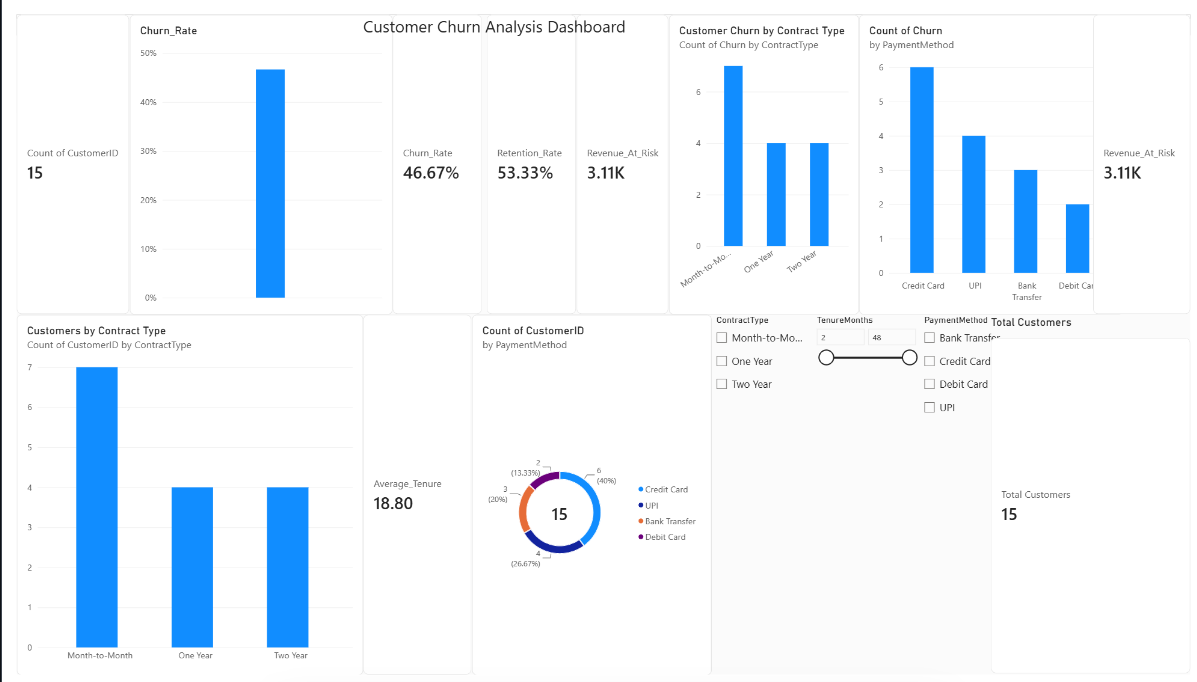

The dashboard page shown, as its layout file describes it:
{"tool":"powerbi","page":{"name":"Page 1","canvas":[1920,1080],"ordinal":0},"visuals":[{"type":"cardVisual","fields":{"Data":["customer_churn_sample (1).Churn_Rate","customer_churn_sample (1).Retention_Rate"]},"box":[362.5,62.5,572.5,317.5],"z":0},{"type":"clusteredColumnChart","fields":{"Y":["customer_churn_sample (1).Churn_Rate"]},"box":[0,380,437.5,397.5],"z":1000},{"type":"cardVisual","fields":{"Data":["customer_churn_sample (1).Revenue_At_Risk"]},"box":[940,65,345,315],"z":2000},{"type":"clusteredColumnChart","title":"Customer Churn by Contract Type","fields":{"Category":["customer_churn_sample (1).ContractType"],"Y":["CountNonNull(customer_churn_sample (1).Churn)"]},"box":[1448.4,379.2,472.5,397.5],"z":3000},{"type":"clusteredColumnChart","fields":{"Category":["customer_churn_sample (1).PaymentMethod"],"Y":["CountNonNull(customer_churn_sample (1).Churn)"]},"box":[990,380,457.5,397.5],"z":4000},{"type":"cardVisual","fields":{"Data":["customer_churn_sample (1).Revenue_At_Risk"]},"box":[1285,62.5,365,317.5],"z":5000},{"type":"clusteredColumnChart","title":" Customers by Contract Type","fields":{"Category":["customer_churn_sample (1).ContractType"],"Y":["CountNonNull(customer_churn_sample (1).CustomerID)"]},"box":[437.5,380,552.5,397.5],"z":6000},{"type":"cardVisual","fields":{"Data":["customer_churn_sample (1).Average_Tenure"]},"box":[0,65,362.5,315],"z":7000},{"type":"donutChart","fields":{"Category":["customer_churn_sample (1).PaymentMethod"],"Y":["CountNonNull(customer_churn_sample (1).CustomerID)"]},"box":[0,777.5,415,302.5],"z":8000},{"type":"slicer","fields":{"Values":["customer_churn_sample (1).ContractType"]},"box":[972.5,777.5,465,302.5],"z":9000},{"type":"slicer","fields":{"Values":["customer_churn_sample (1).TenureMonths"]},"box":[1437.5,777.5,482.5,302.5],"z":10000},{"type":"slicer","fields":{"Values":["customer_churn_sample (1).PaymentMethod"]},"box":[415,777.5,557.5,302.5],"z":11000},{"type":"textbox","box":[780,0,470,62.5],"z":12000},{"type":"cardVisual","fields":{"Data":["customer_churn_sample (1).Total_Customers_All"]},"box":[1595,65,327.5,315],"z":13000}]}

Visuals, with their boxes in screenshot pixels (x1, y1, x2, y2), scaled from the page's 1920x1080 canvas onto the 1197x682 screenshot:
cardVisual - customer_churn_sample (1).Churn_Rate x customer_churn_sample (1).Retention_Rate: <box>226,39,583,240</box>
clusteredColumnChart - customer_churn_sample (1).Churn_Rate: <box>0,240,273,491</box>
cardVisual - customer_churn_sample (1).Revenue_At_Risk: <box>586,41,801,240</box>
"Customer Churn by Contract Type" clusteredColumnChart: <box>903,239,1196,490</box>
clusteredColumnChart - customer_churn_sample (1).PaymentMethod x CountNonNull(customer_churn_sample (1).Churn): <box>617,240,902,491</box>
cardVisual - customer_churn_sample (1).Revenue_At_Risk: <box>801,39,1029,240</box>
" Customers by Contract Type" clusteredColumnChart: <box>273,240,617,491</box>
cardVisual - customer_churn_sample (1).Average_Tenure: <box>0,41,226,240</box>
donutChart - customer_churn_sample (1).PaymentMethod x CountNonNull(customer_churn_sample (1).CustomerID): <box>0,491,259,681</box>
slicer - customer_churn_sample (1).ContractType: <box>606,491,896,681</box>
slicer - customer_churn_sample (1).TenureMonths: <box>896,491,1196,681</box>
slicer - customer_churn_sample (1).PaymentMethod: <box>259,491,606,681</box>
textbox: <box>486,0,779,39</box>
cardVisual - customer_churn_sample (1).Total_Customers_All: <box>994,41,1196,240</box>
